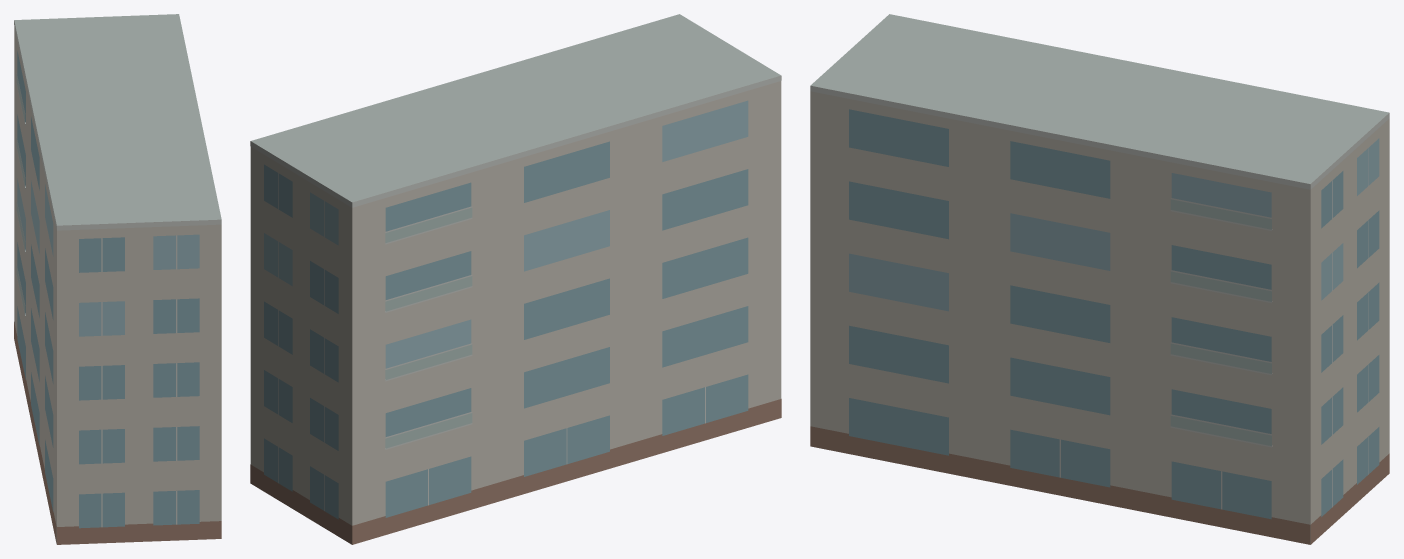
The model's file is survey-upis-33046050.glb.
The picture shows the model from 3 angles, left to right: view 1: azimuth 30°, elevation 25°; view 2: azimuth 150°, elevation 25°; view 3: azimuth 270°, elevation 25°; orthographic projection. The views are drawn at different scales.
Parts seen in each view (by area): view 1: survey-upis-33046050.tmp; view 2: survey-upis-33046050.tmp; view 3: survey-upis-33046050.tmp.
Boxes of the visible parts, <box> form: survey-upis-33046050.tmp: <box>14,14,221,544</box>; survey-upis-33046050.tmp: <box>250,14,781,544</box>; survey-upis-33046050.tmp: <box>810,14,1389,544</box>.
Bounding box in the file's own units: 15.84 × 15.65 × 22.79.
